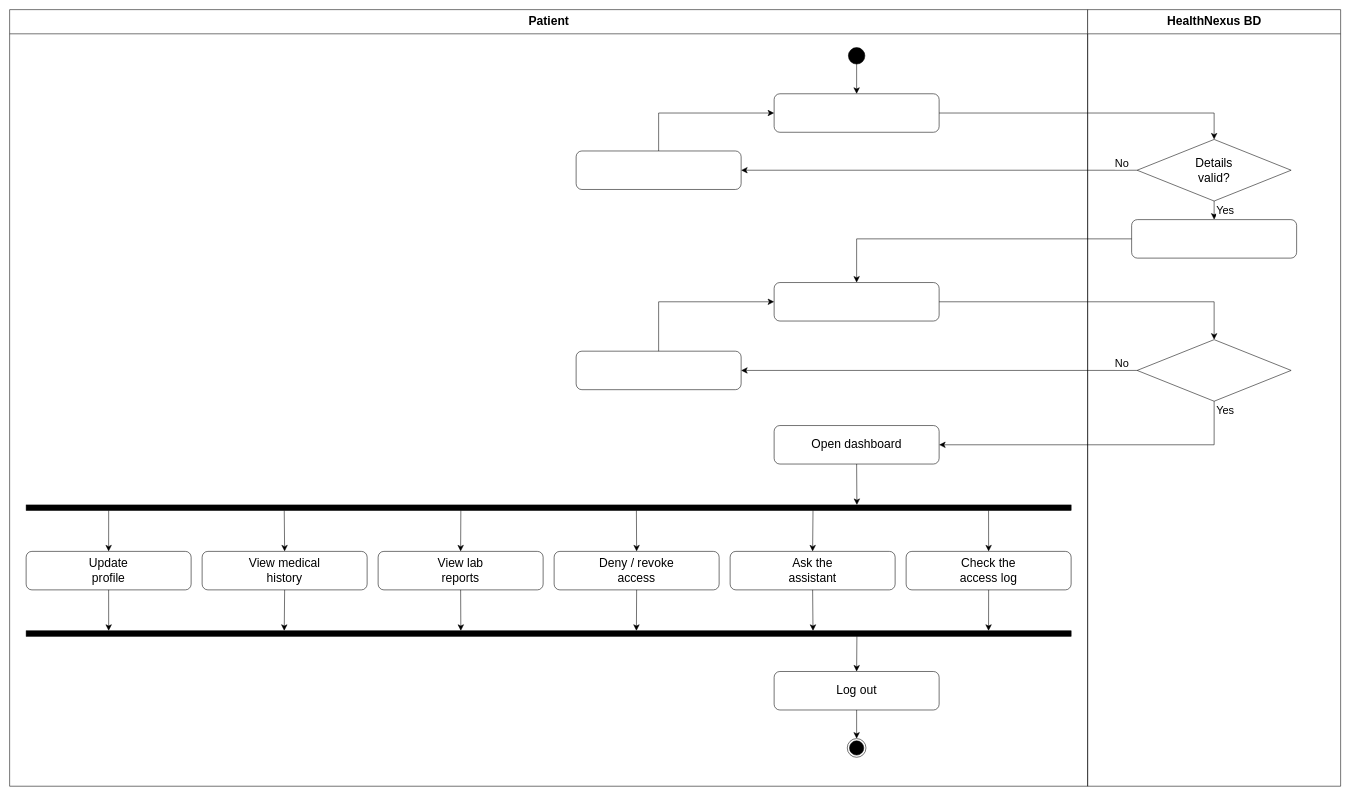
This 1350x796 diagram has some shape labels left out. The shapes that lost their labels are listed below. From the top down, each one's centre as x and y in pixels, then its label:
(856,112): Fill in the registration form
(658,169): Correct the details
(1214,238): Create account & UHID
(856,301): Log in
(658,370): Reset password with a code
(1214,370): Password correct?
